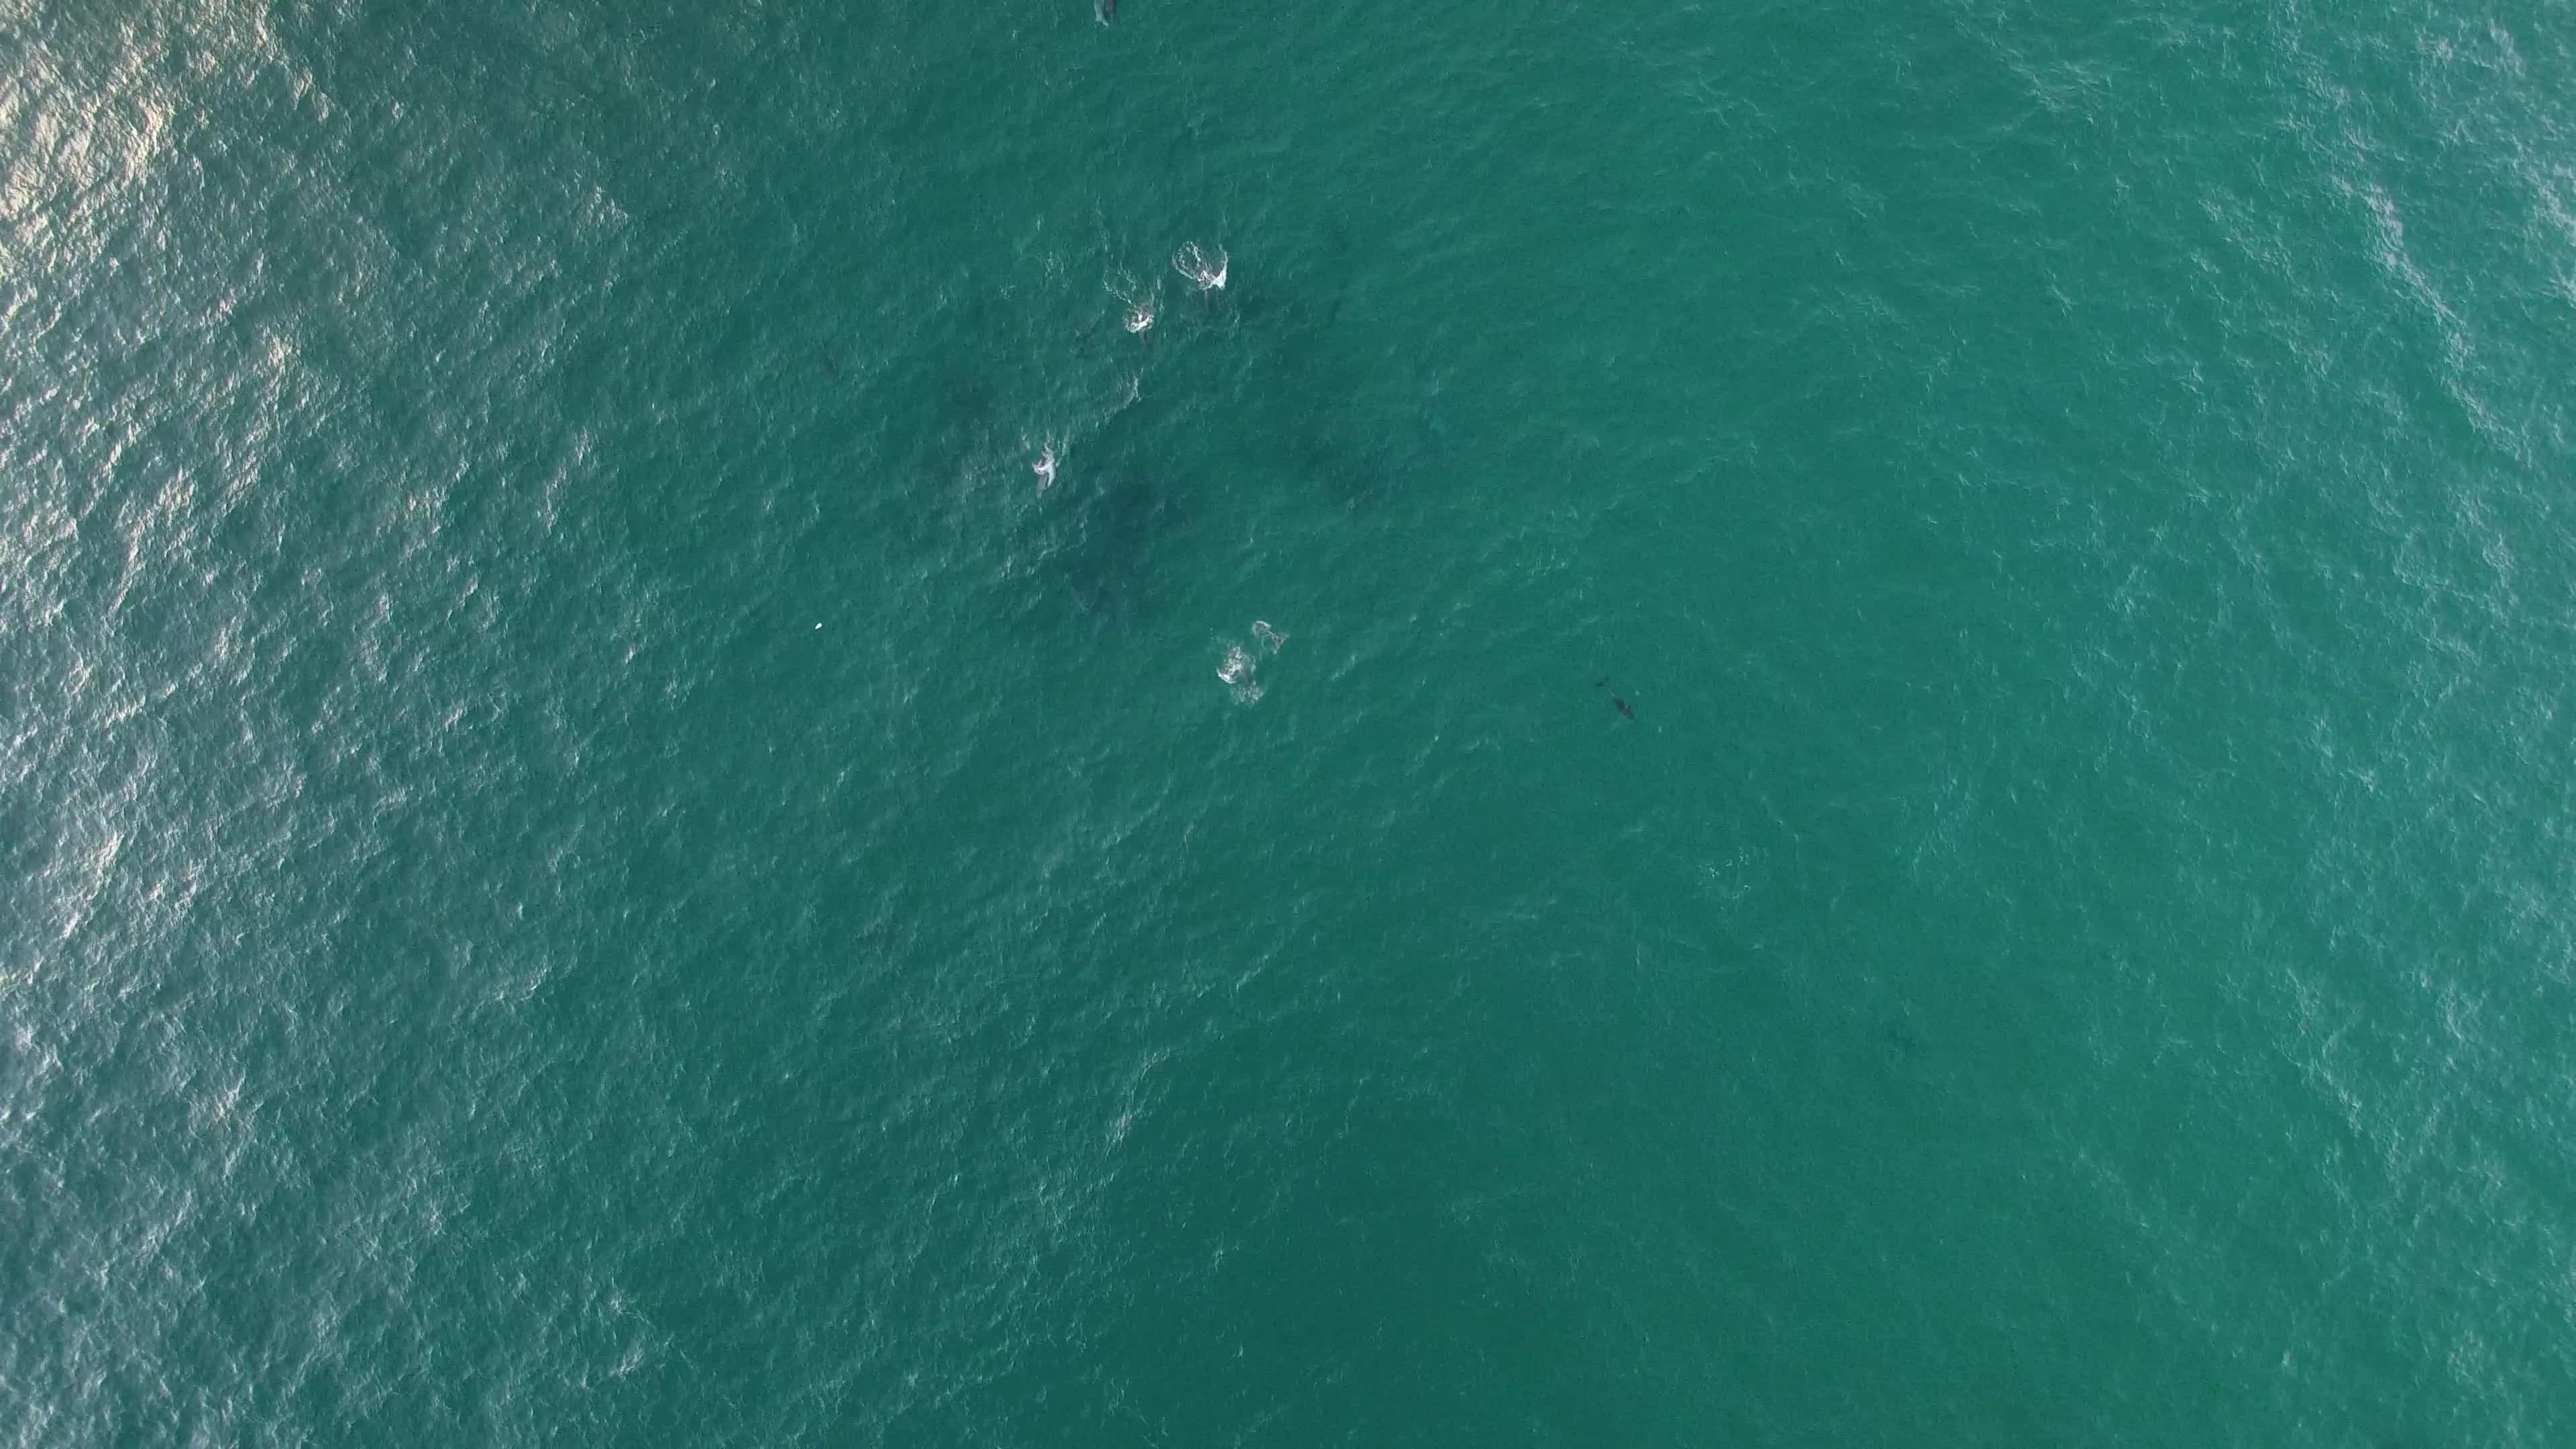dolphin: (1580, 653, 1649, 727), (1017, 430, 1065, 513), (1175, 237, 1230, 308), (1116, 288, 1164, 364), (1219, 635, 1267, 699), (1246, 616, 1288, 653)
